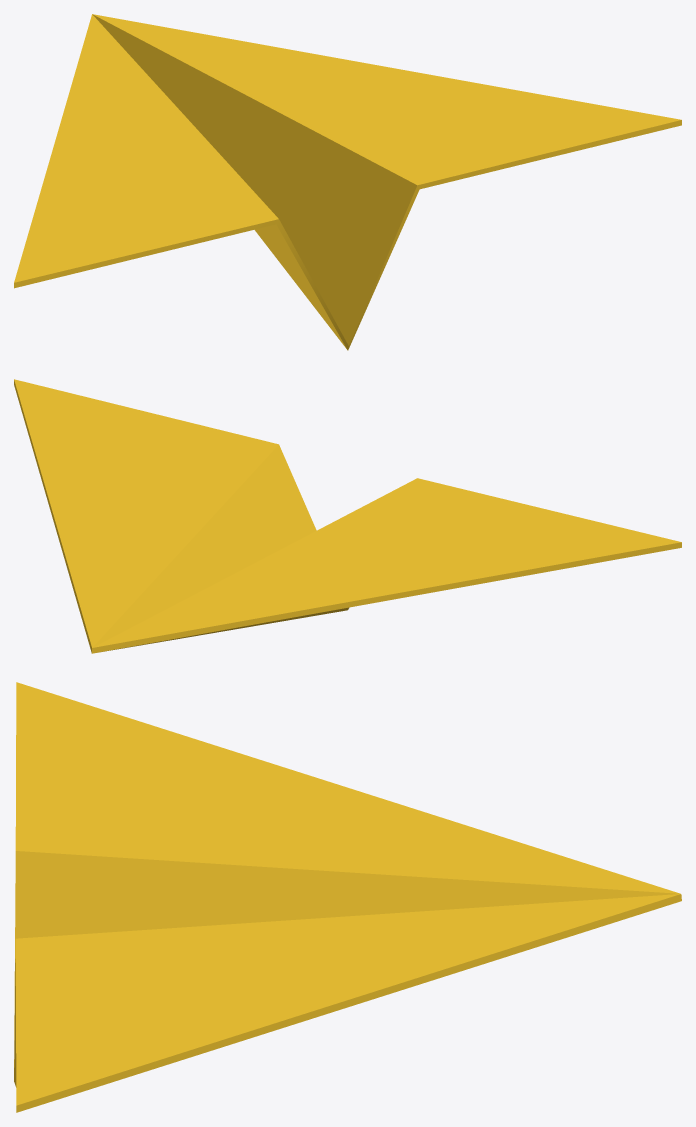
File: feiji.FBX
The picture shows the model from 3 angles, top to bottom: view 1: azimuth 30°, elevation 25°; view 2: azimuth 150°, elevation 25°; view 3: azimuth 270°, elevation 25°; orthographic projection. The views are drawn at different scales.
Parts seen in each view (by area): view 1: Plane001; view 2: Plane001; view 3: Plane001.
Part boxes in pixels (bbox=[...]): Plane001: bbox=[14, 14, 681, 350]; Plane001: bbox=[14, 379, 681, 653]; Plane001: bbox=[14, 682, 681, 1112].
Bounding box in the file's own units: 126 × 26.93 × 83.89.
